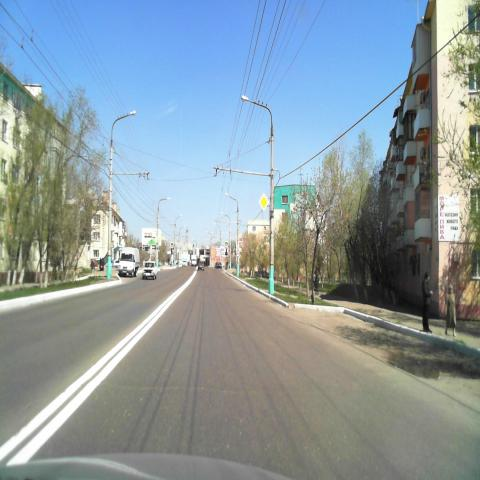2_1: (259, 193, 269, 211)
